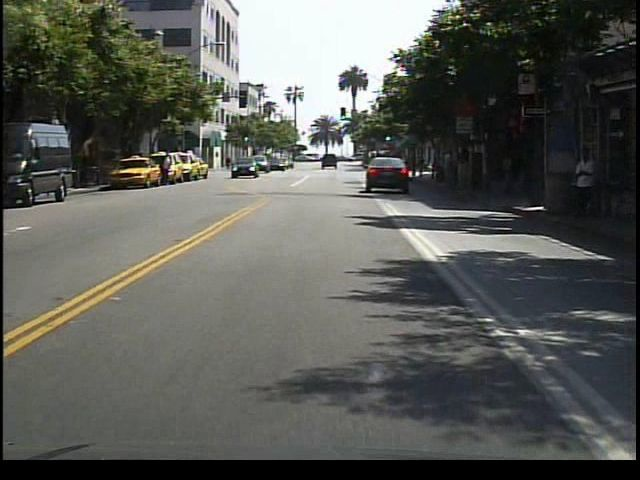person: (567, 144, 603, 227), (160, 151, 176, 190)
